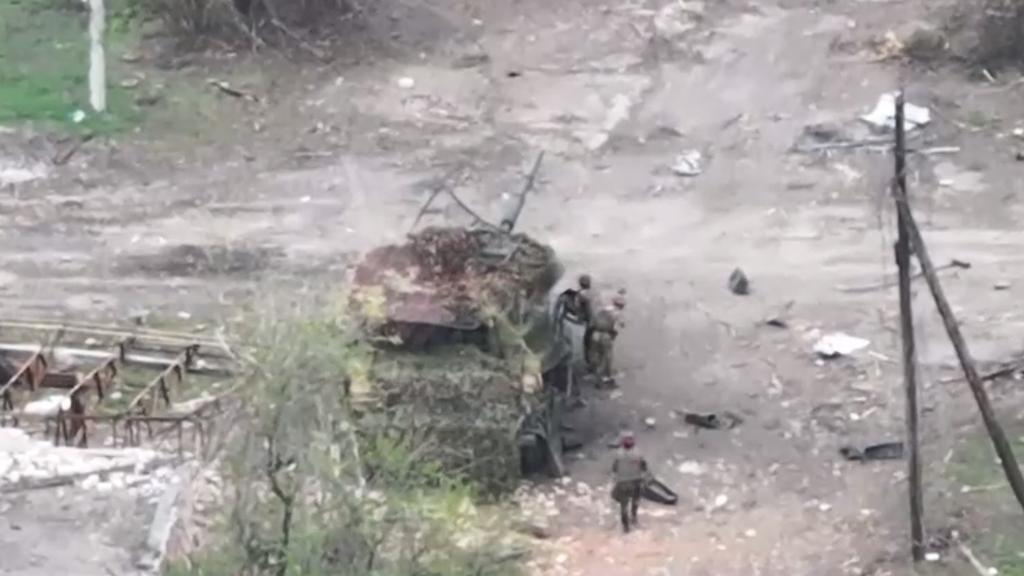TANK: (323, 144, 577, 487)
